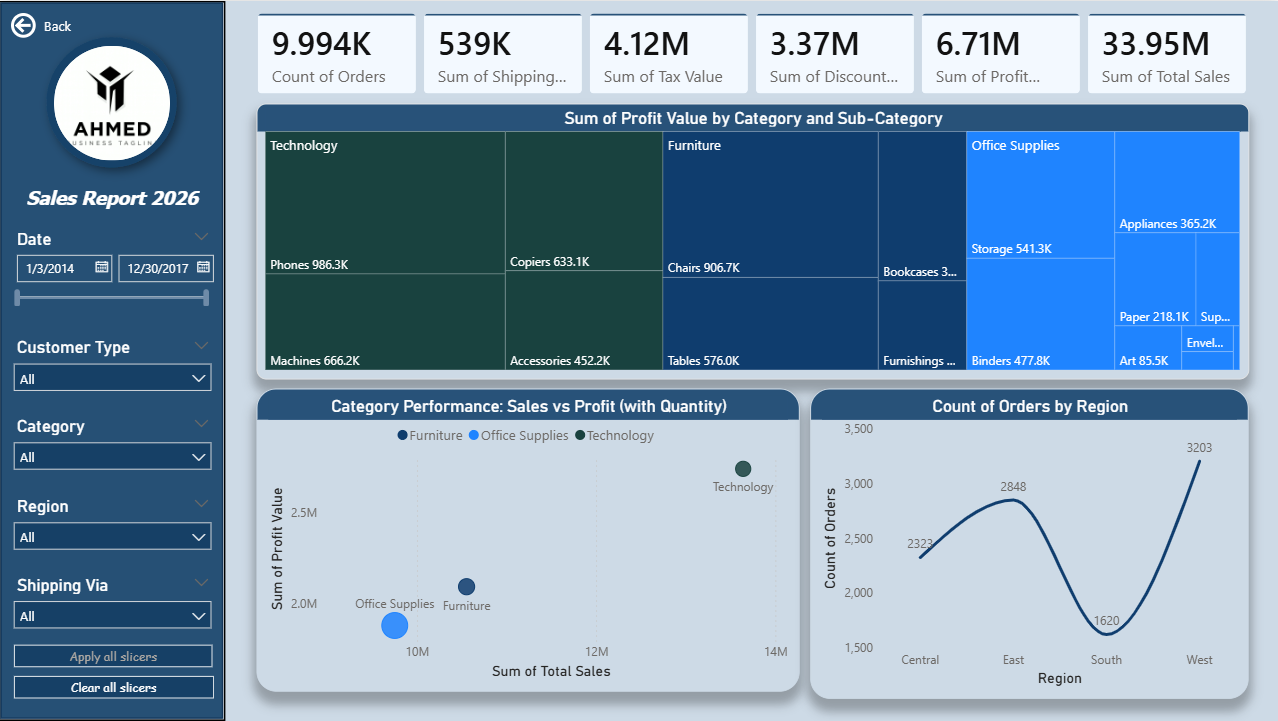

Layout of this report page (visuals, bound fields, positions):
{"tool":"powerbi","page":{"name":"4","canvas":[1280,720],"ordinal":3},"visuals":[{"type":"shape","box":[0,0,226.2,720],"z":0},{"type":"shape","box":[32.8,21.3,160,160],"z":1000},{"type":"image","box":[55,44.6,116,114.7],"z":2000},{"type":"textbox","box":[0,181.2,226.2,38.8],"z":3000},{"type":"slicer","fields":{"Values":["DateTable.Date"]},"box":[10,227.3,207.5,100],"z":4000},{"type":"slicer","fields":{"Values":["Customers.Customer Type"]},"box":[10,336.4,207.5,70],"z":5000},{"type":"slicer","fields":{"Values":["Products.Category"]},"box":[10,415.5,207.5,70],"z":6000},{"type":"slicer","fields":{"Values":["Shipping.Region"]},"box":[10,494.6,207.5,70],"z":7000},{"type":"slicer","fields":{"Values":["Orders.Shipping Via"]},"box":[10,573.8,207.5,70],"z":8000},{"type":"actionButton","box":[15,643.8,198.8,22.5],"z":9000},{"type":"actionButton","box":[15,675.6,200,22],"z":10000},{"type":"actionButton","box":[7.5,7.5,68.8,33.8],"z":12000},{"type":"treemap","fields":{"Group":["Products.Category"],"Values":["Sum(Orders_details.Profit Value)"],"Details":["Products.Sub-Category"]},"box":[257.5,102.5,992.5,275.8],"z":13000},{"type":"cardVisual","fields":{"Data":["CountNonNull(Orders_details.Order ID)","Sum(Orders_details.Shipping Cost)","Sum(Orders_details.Tax Value)","Sum(Orders_details.Discount Value)","Sum(Orders_details.Profit Value)","Sum(Orders_details.Total Sales)"]},"box":[238.6,12.1,1028.6,80],"z":14000},{"type":"scatterChart","title":"Category Performance: Sales vs Profit (with Quantity)","fields":{"Y":["Sum(Orders_details.Profit Value)"],"X":["Sum(Orders_details.Total Sales)"],"Category":["Products.Category"],"Size":["Sum(Orders_details.Quantity)"],"Series":["Products.Category"]},"box":[257.1,387.1,542.9,302.9],"z":15000},{"type":"lineChart","fields":{"Y":["CountNonNull(Orders_details.Order ID)"],"Category":["Shipping.Region"]},"box":[811.4,387.1,438.6,310],"z":16000}]}

Visuals, with their boxes in screenshot pixels (x1, y1, x2, y2), scaled from the page's 1280x720 canvas onto the 1278x721 screenshot:
shape: <region>0, 0, 226, 720</region>
shape: <region>33, 21, 192, 182</region>
image: <region>55, 45, 171, 160</region>
textbox: <region>0, 181, 226, 220</region>
slicer - DateTable.Date: <region>10, 228, 217, 328</region>
slicer - Customers.Customer Type: <region>10, 337, 217, 407</region>
slicer - Products.Category: <region>10, 416, 217, 486</region>
slicer - Shipping.Region: <region>10, 495, 217, 565</region>
slicer - Orders.Shipping Via: <region>10, 575, 217, 645</region>
actionButton: <region>15, 645, 213, 667</region>
actionButton: <region>15, 677, 215, 699</region>
actionButton: <region>7, 8, 76, 41</region>
treemap - Products.Category x Sum(Orders_details.Profit Value): <region>257, 103, 1248, 379</region>
cardVisual - CountNonNull(Orders_details.Order ID) x Sum(Orders_details.Shipping Cost): <region>238, 12, 1265, 92</region>
"Category Performance: Sales vs Profit (with Quantity)" scatterChart: <region>257, 388, 799, 691</region>
lineChart - CountNonNull(Orders_details.Order ID) x Shipping.Region: <region>810, 388, 1248, 698</region>
